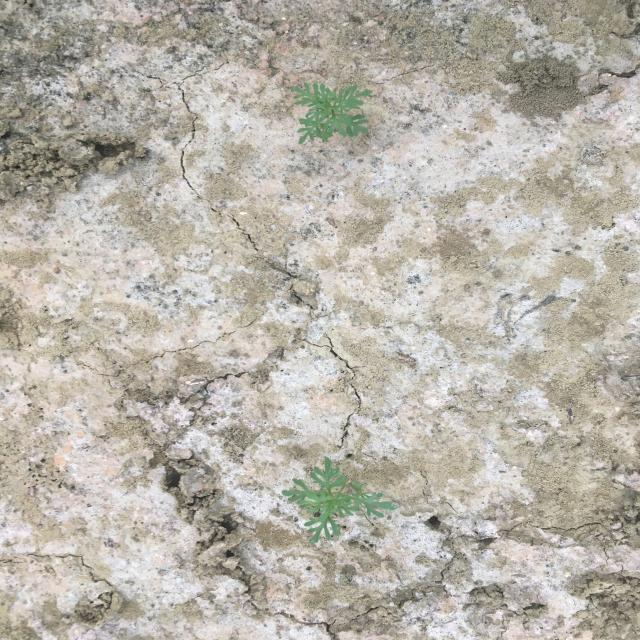Ragweed: (280, 456, 402, 546), (286, 81, 376, 146)
